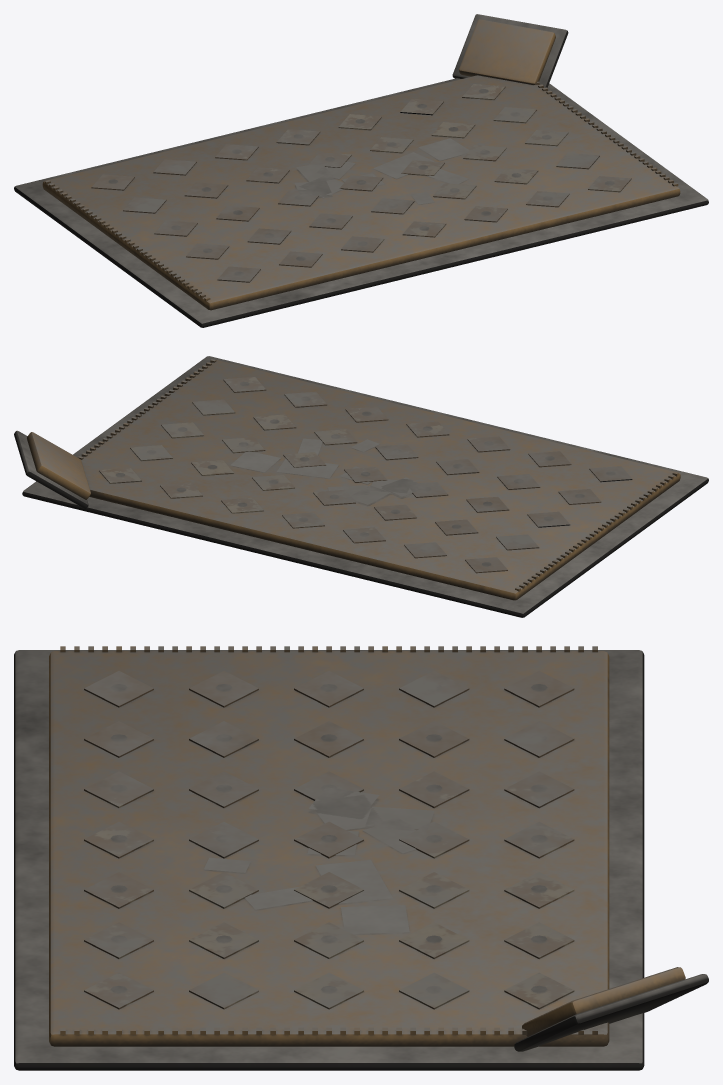
File: SM_Doormat.fbx
The picture shows the model from 3 angles, top to bottom: view 1: azimuth 30°, elevation 25°; view 2: azimuth 150°, elevation 25°; view 3: azimuth 270°, elevation 25°; orthographic projection. The views are drawn at different scales.
Parts seen in each view (by area): view 1: SM_Doormat; view 2: SM_Doormat; view 3: SM_Doormat.
Boxes of the visible parts, x1,y1,x2,y2 form: SM_Doormat: (14,14,708,327); SM_Doormat: (14,356,708,617); SM_Doormat: (14,646,708,1070).
Size of the model in its own units: 0.7369 by 0.0629 by 0.4962.
1 material, 1 textured.
